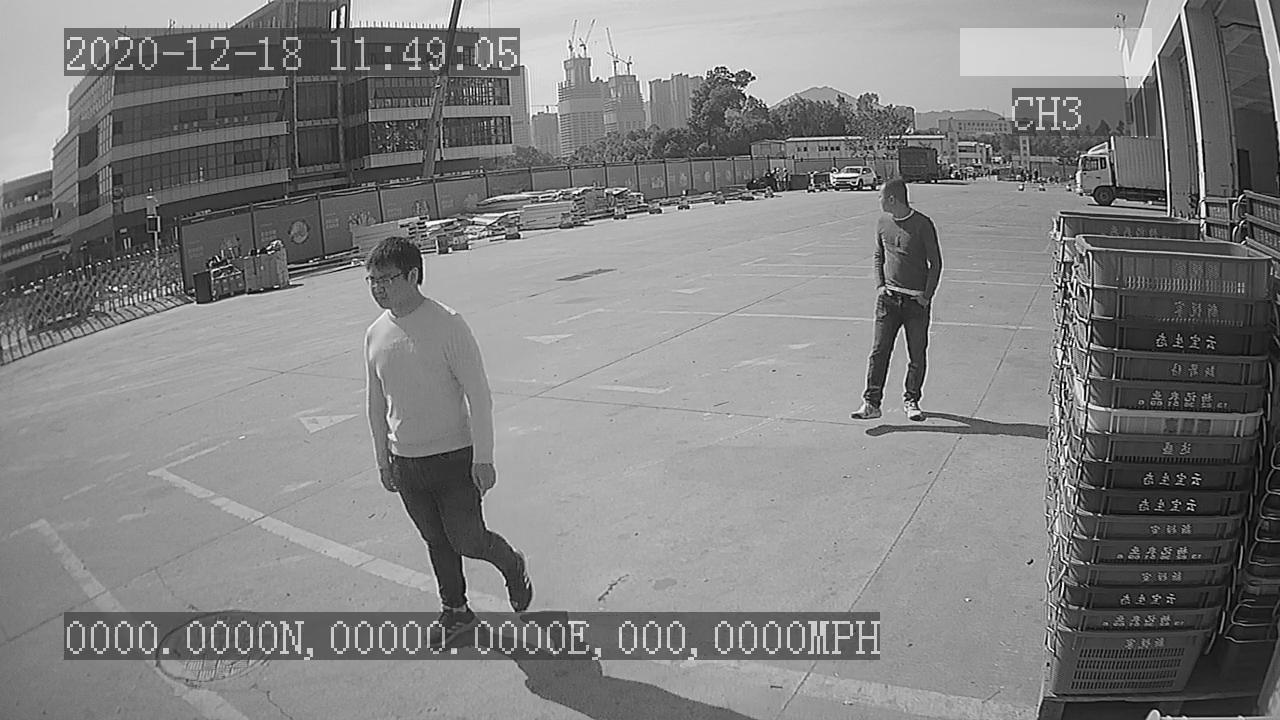person: (849, 177, 947, 420)
